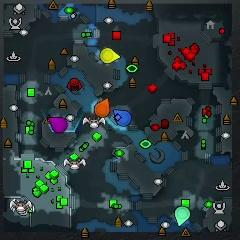p1: (114, 109, 131, 126)
p2: (175, 206, 190, 226)
p3: (48, 116, 68, 134)
p4: (101, 47, 120, 64)
p5: (95, 98, 109, 117)
